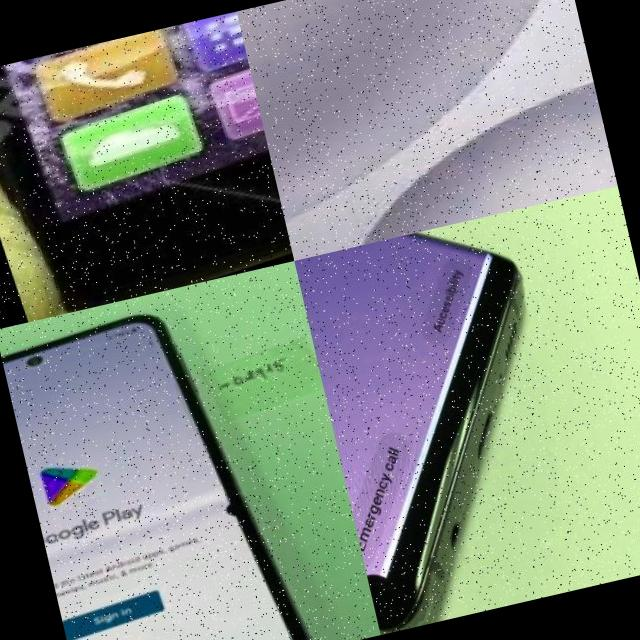dead pixel: (359, 538, 417, 634), (202, 494, 258, 538)
